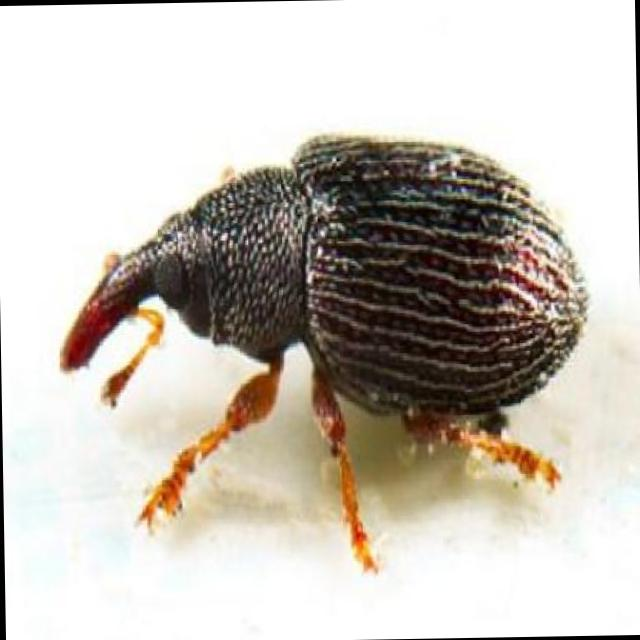rice-bug: (54, 125, 597, 503)
